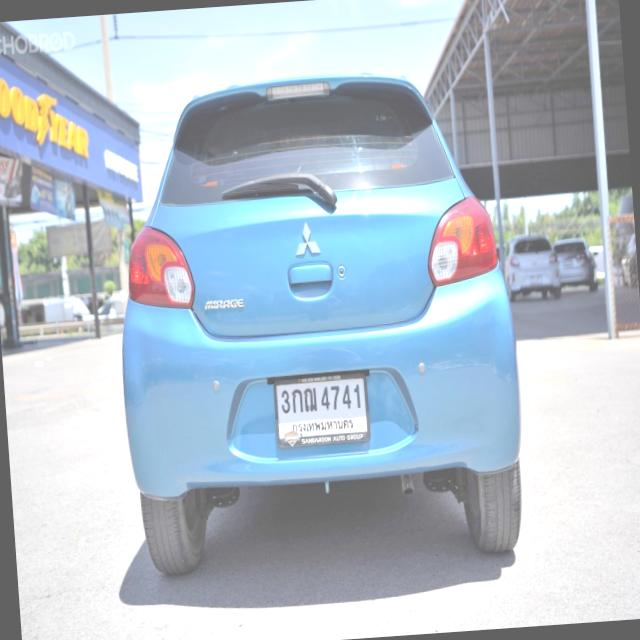license_plate: (271, 370, 370, 452)
